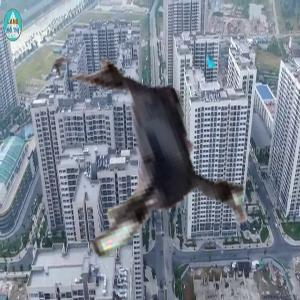drone: (14, 25, 273, 284)
